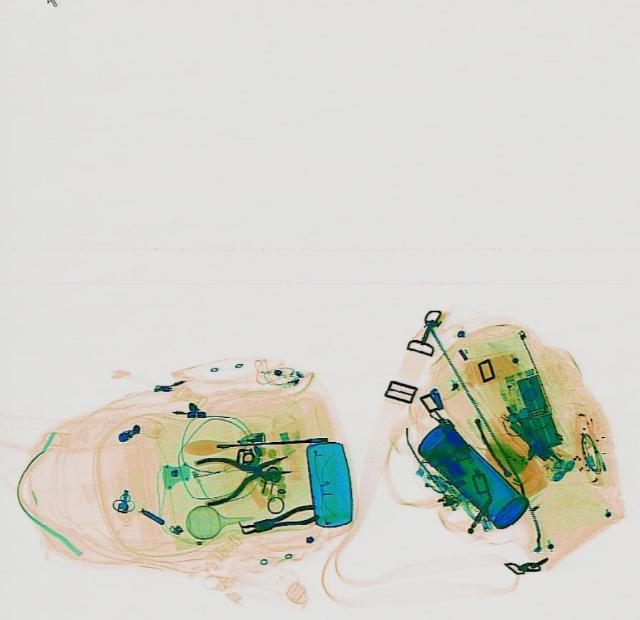Pliers: (193, 443, 295, 504), (237, 500, 319, 539)
